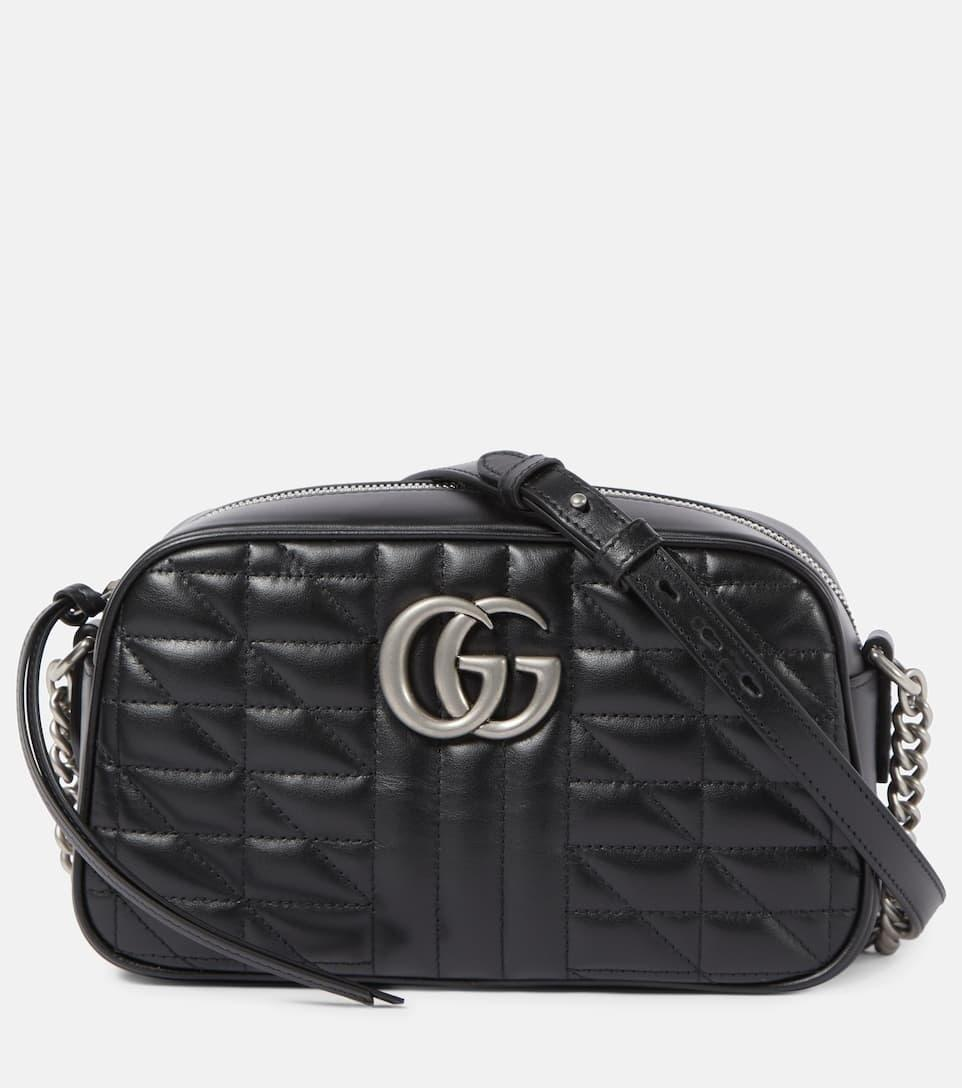GUCCI: (377, 597, 563, 741)
